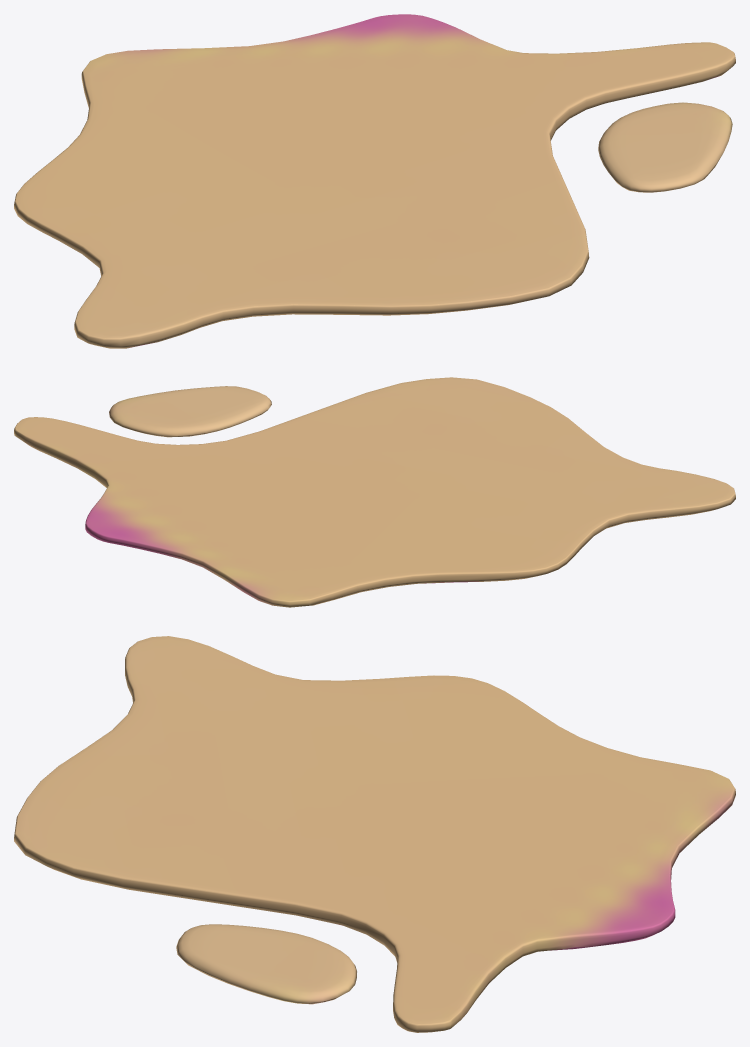
The model's file is charco.obj.
3 views of the same model, one above another, from view 1: azimuth 30°, elevation 25°; view 2: azimuth 150°, elevation 25°; view 3: azimuth 270°, elevation 25° (orthographic). The views are drawn at different scales.
Visible parts, largest first — view 1: pPlane13; view 2: pPlane13; view 3: pPlane13.
Part boxes in pixels (box(x1,y1,x2,y2)): pPlane13: box(14, 14, 735, 348); pPlane13: box(14, 377, 735, 607); pPlane13: box(14, 636, 735, 1032).
Bounding box in the file's own units: 22.77 × 0.367 × 17.83.
1 material, 1 textured.
